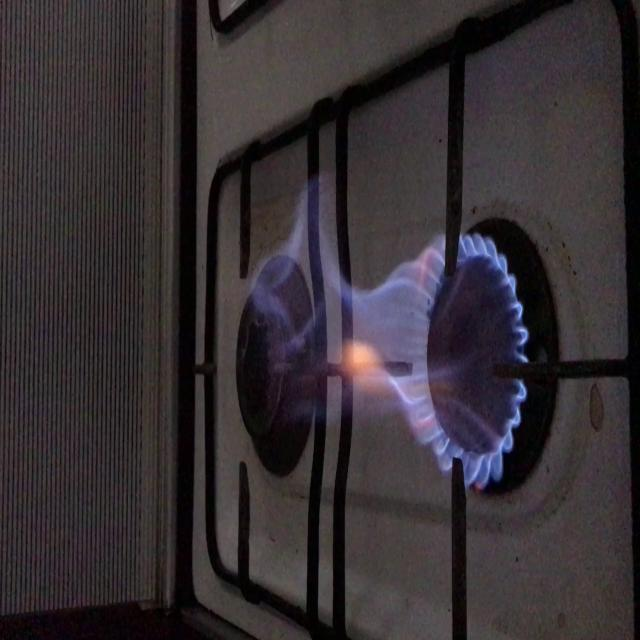Fire: (268, 229, 527, 476)
